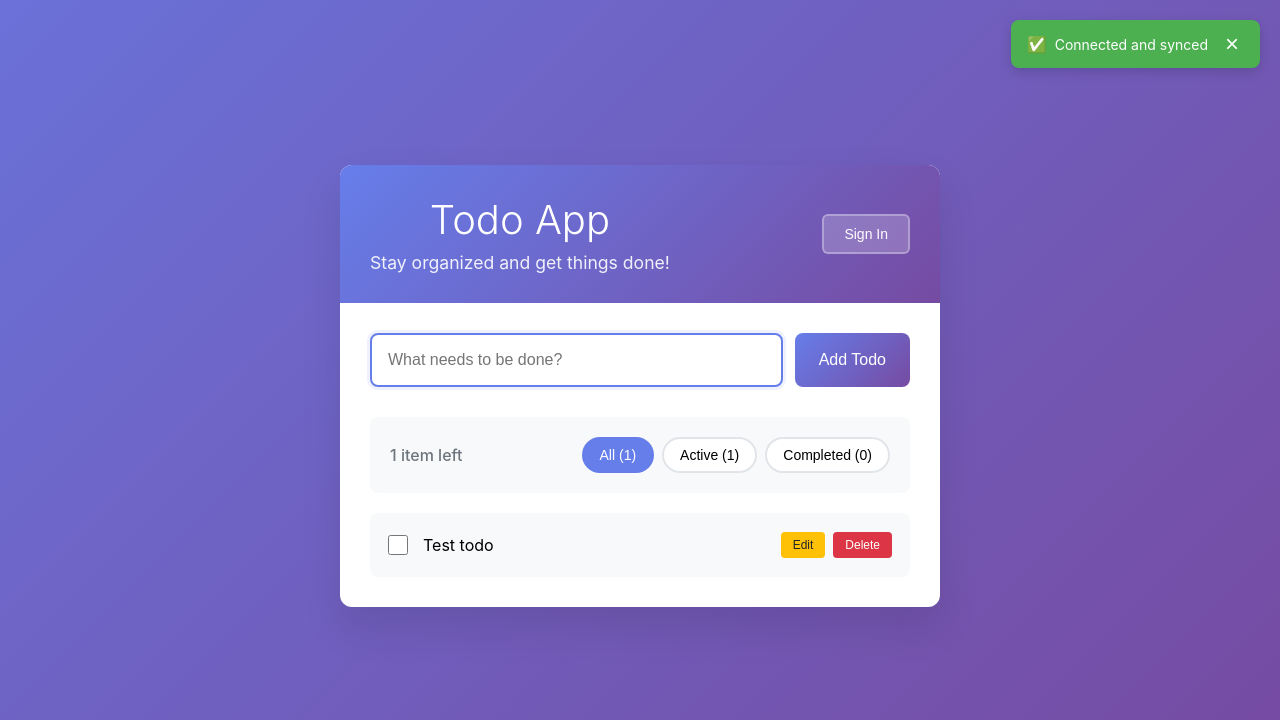
it: App Component › deletes a todo
This screenshot has width=1280, height=720.
(page scrolled)
Click the button "Delete". click: (863, 545)
box: [833,532,892,558]
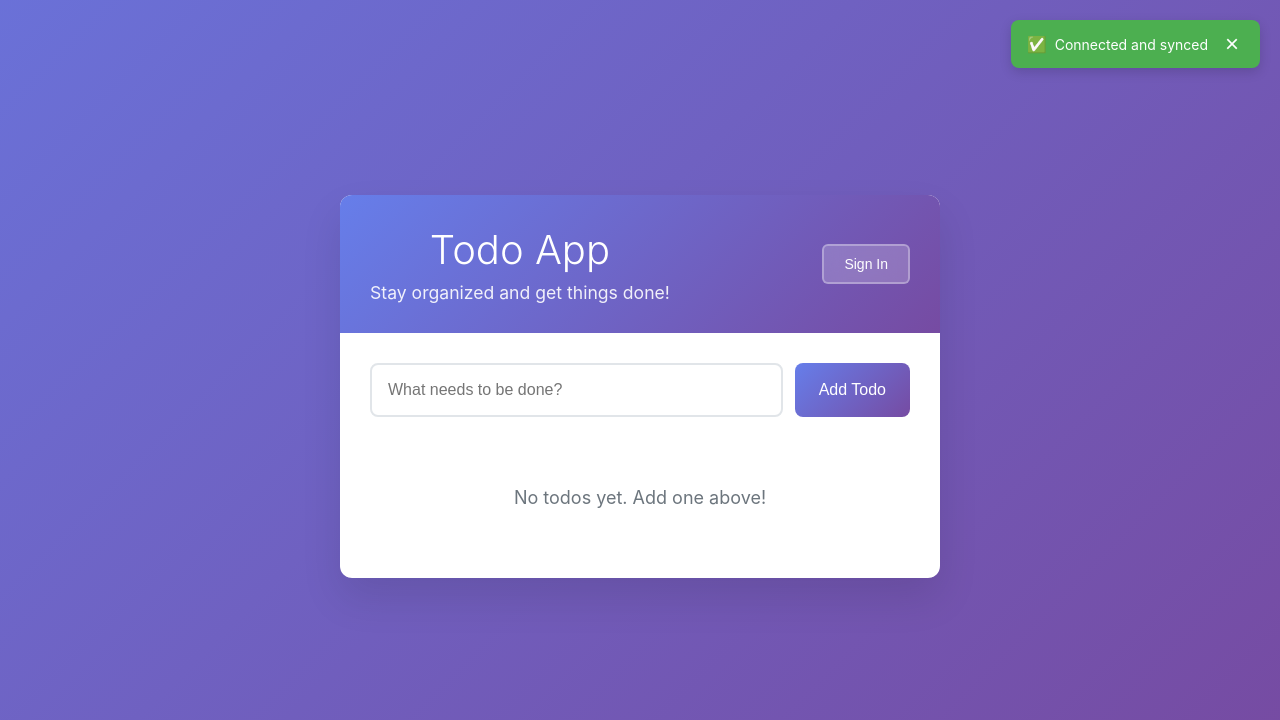
Check: the text "Test todo" is gone
